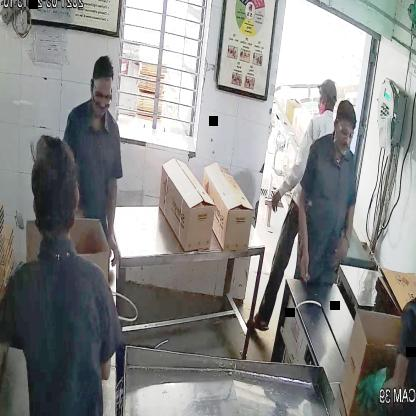goggles: (88, 86, 116, 107), (333, 121, 358, 140)
